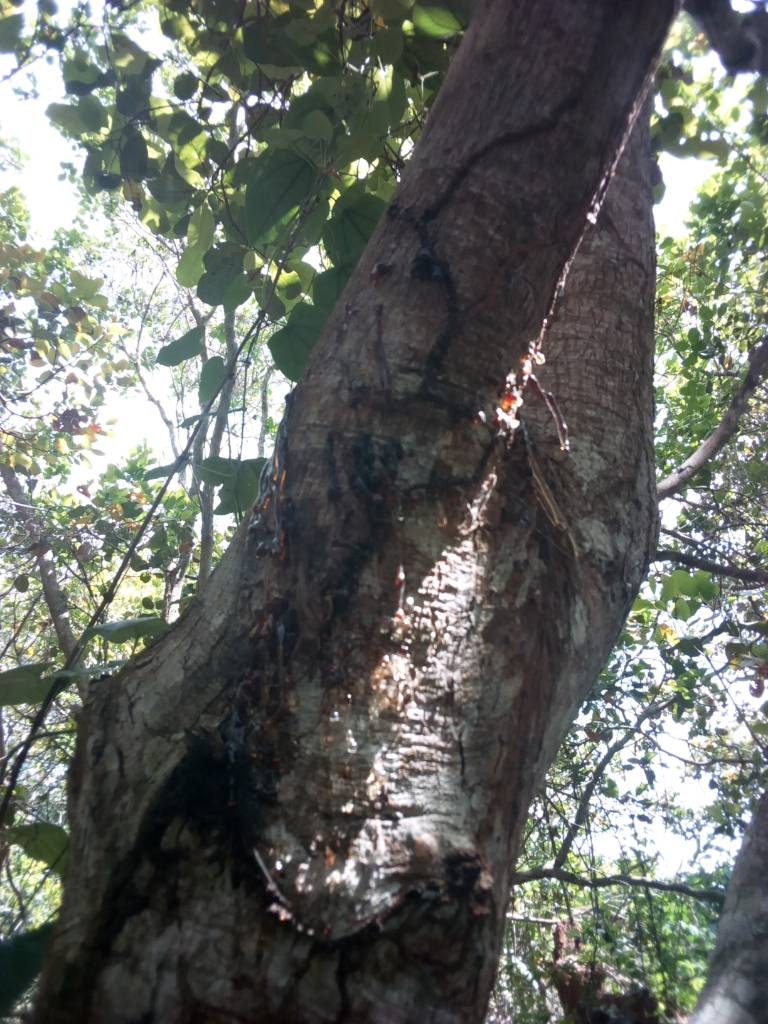Gommose: (208, 489, 302, 866)
